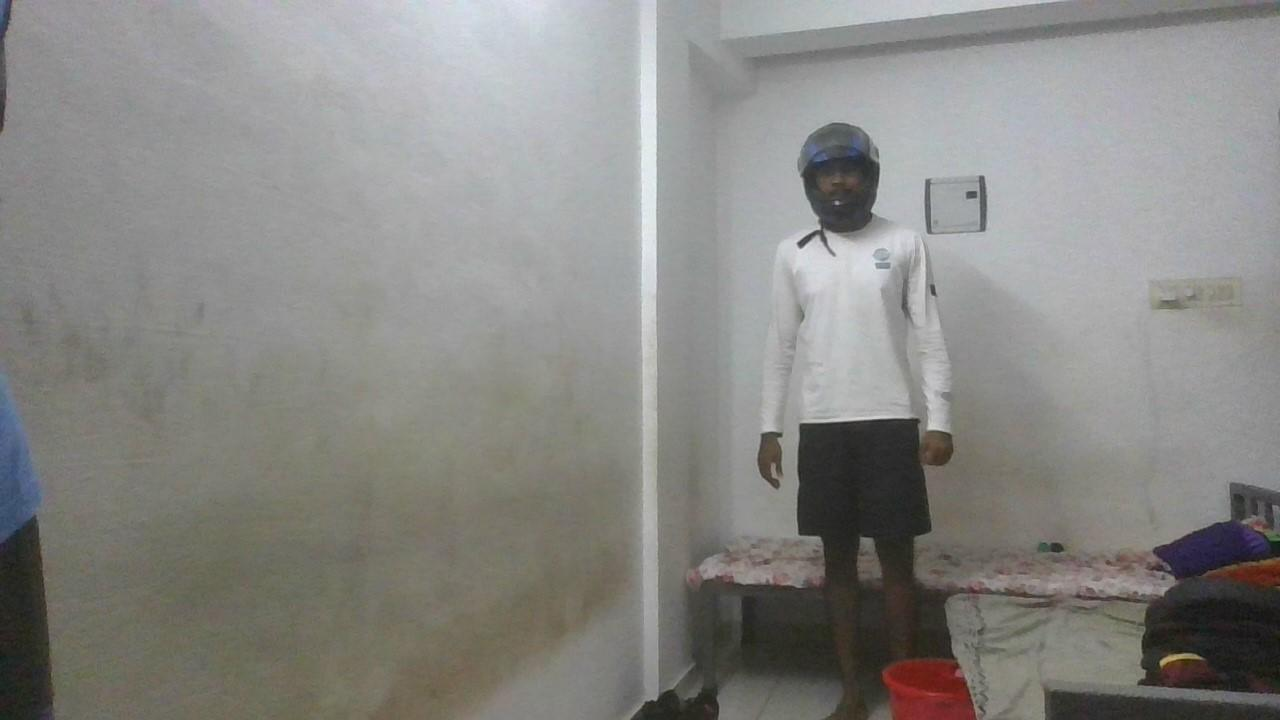helmet: (797, 122, 881, 232)
